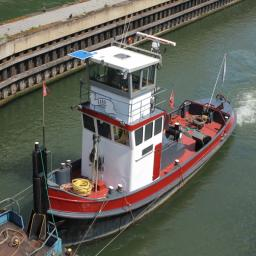tugboat: (33, 10, 241, 254)
